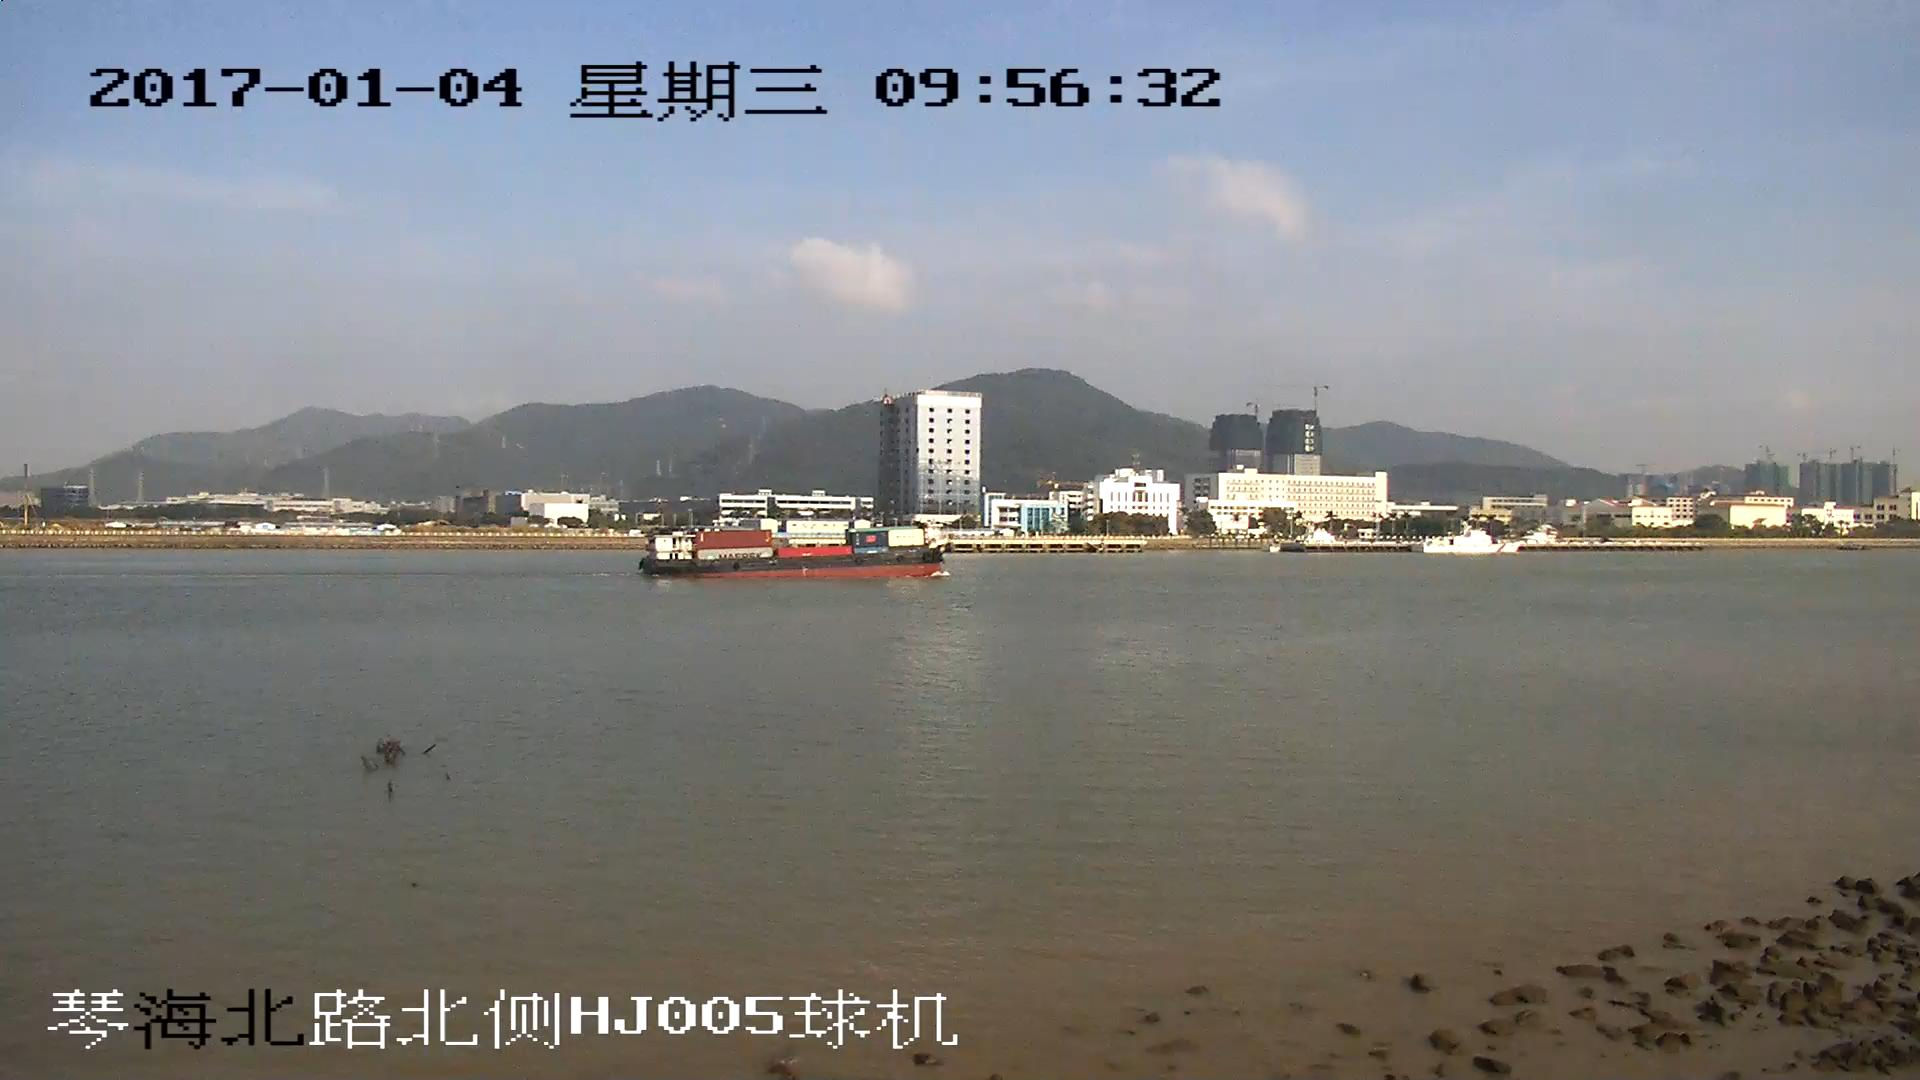container ship: (644, 526, 944, 577)
